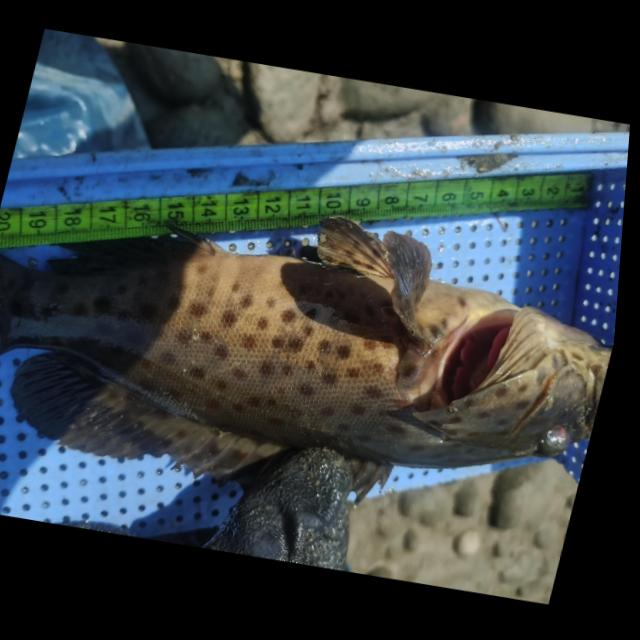Groupers: (0, 151, 628, 543)
